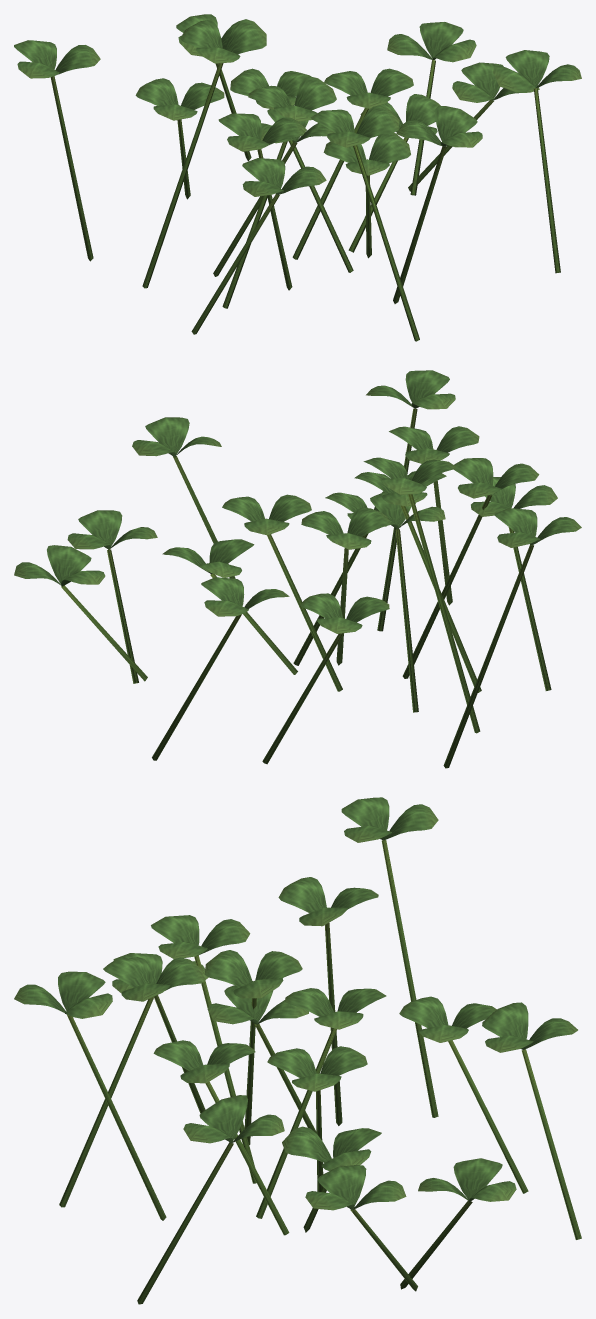
File: WhiteClover_C.fbx
The picture shows the model from 3 angles, top to bottom: view 1: azimuth 30°, elevation 25°; view 2: azimuth 150°, elevation 25°; view 3: azimuth 270°, elevation 25°; orthographic projection. The views are drawn at different scales.
Parts seen in each view (by area): view 1: WhiteClover_C_LOD0; view 2: WhiteClover_C_LOD0; view 3: WhiteClover_C_LOD0.
Boxes of the visible parts, x1,y1,x2,y2 form: WhiteClover_C_LOD0: (14,14,581,341); WhiteClover_C_LOD0: (14,370,581,768); WhiteClover_C_LOD0: (14,797,581,1304).
Size of what is drawn, in the model's own units: 26.1 by 12.07 by 22.7.
1 material, 1 textured.
